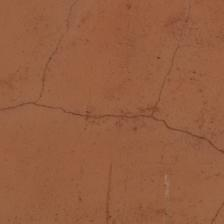Crack: (0, 22, 188, 86), (9, 3, 84, 105), (84, 119, 142, 224)
